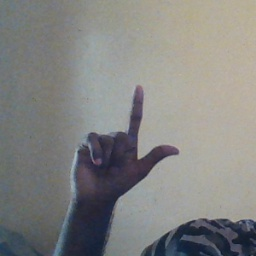L: (70, 83, 181, 198)
